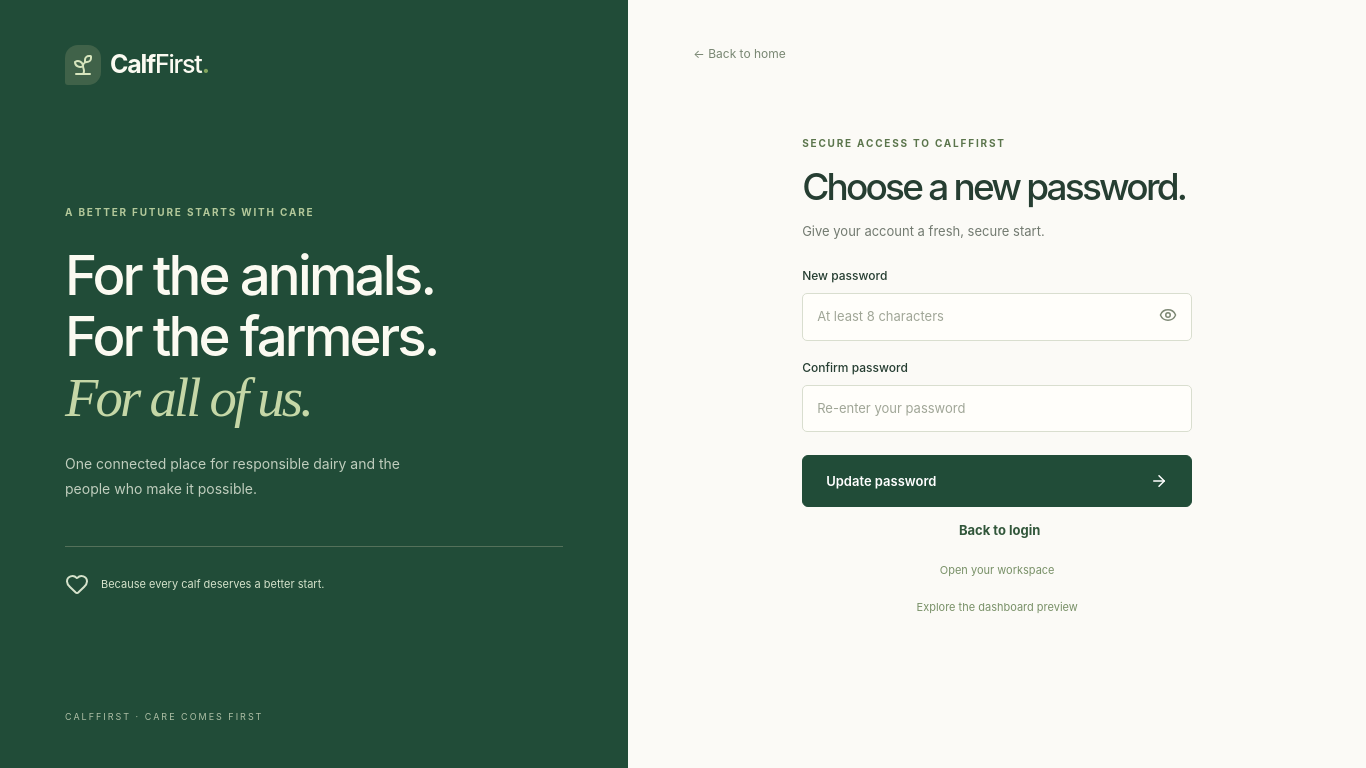
authentication forms › updates a matching password and signs out locally
Type "new-password" into the password field labelled "New password" at (997, 317), box [802,293,1192,341]
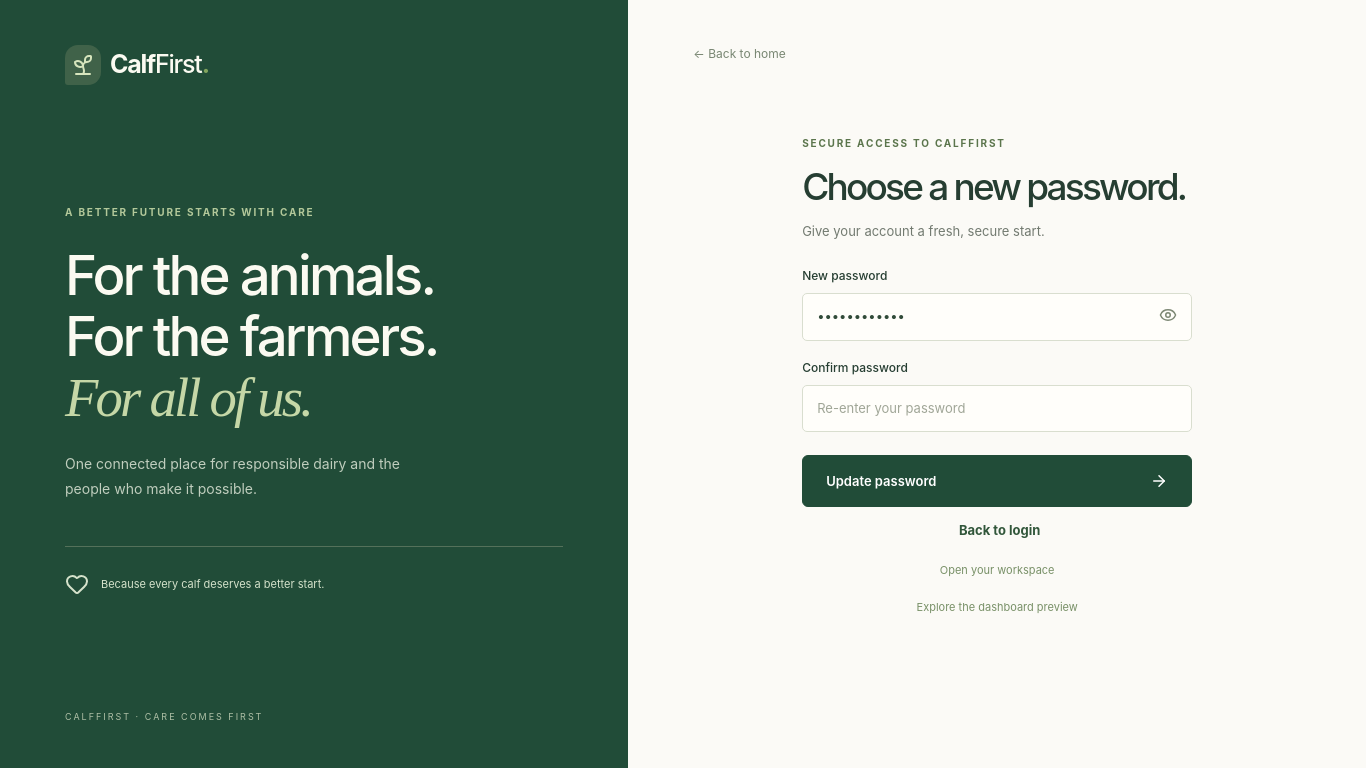
Type "new-password" into the password field labelled "Confirm password" at (997, 408), box [802,385,1192,432]
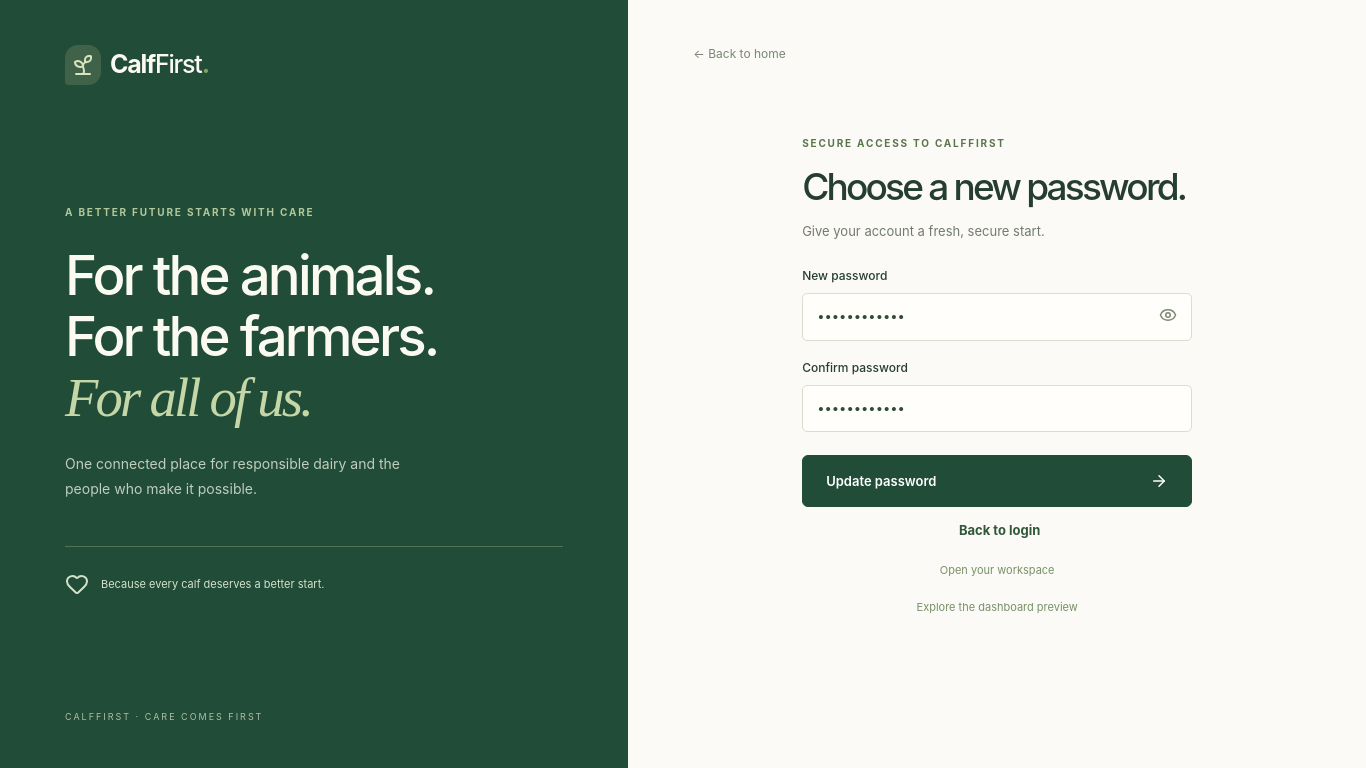
Click the button "Update password" at (881, 481), box [802,455,1192,507]
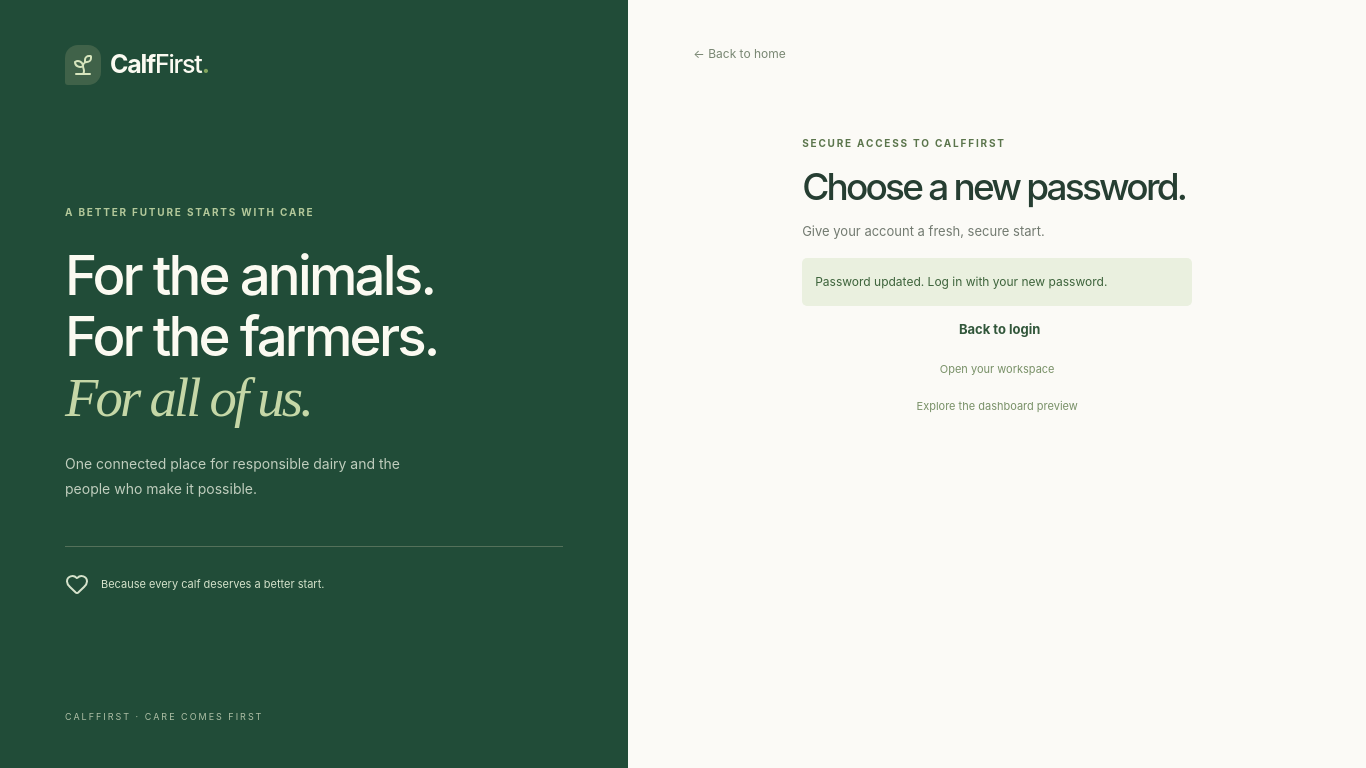
Expected: the text "Password updated. Log in with your new password." is shown, [802,258,1192,306]
